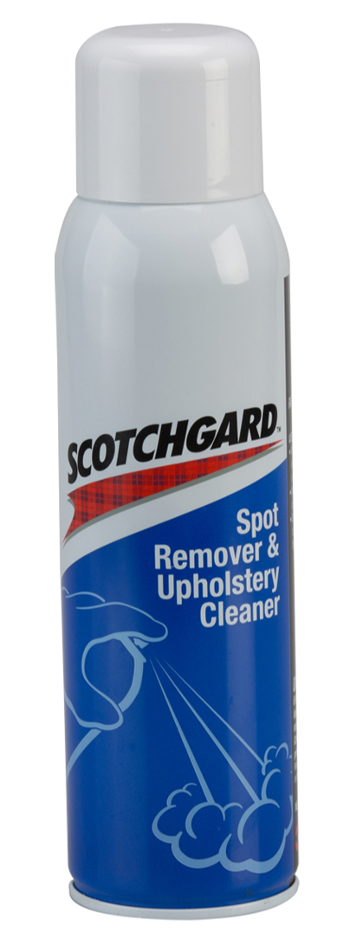Aerosol_cans: (45, 16, 306, 930)
